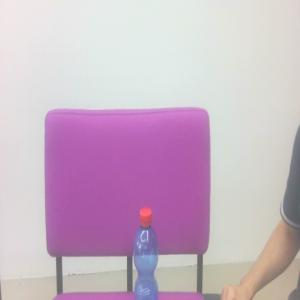Plastic-bottle: (134, 207, 160, 300)
